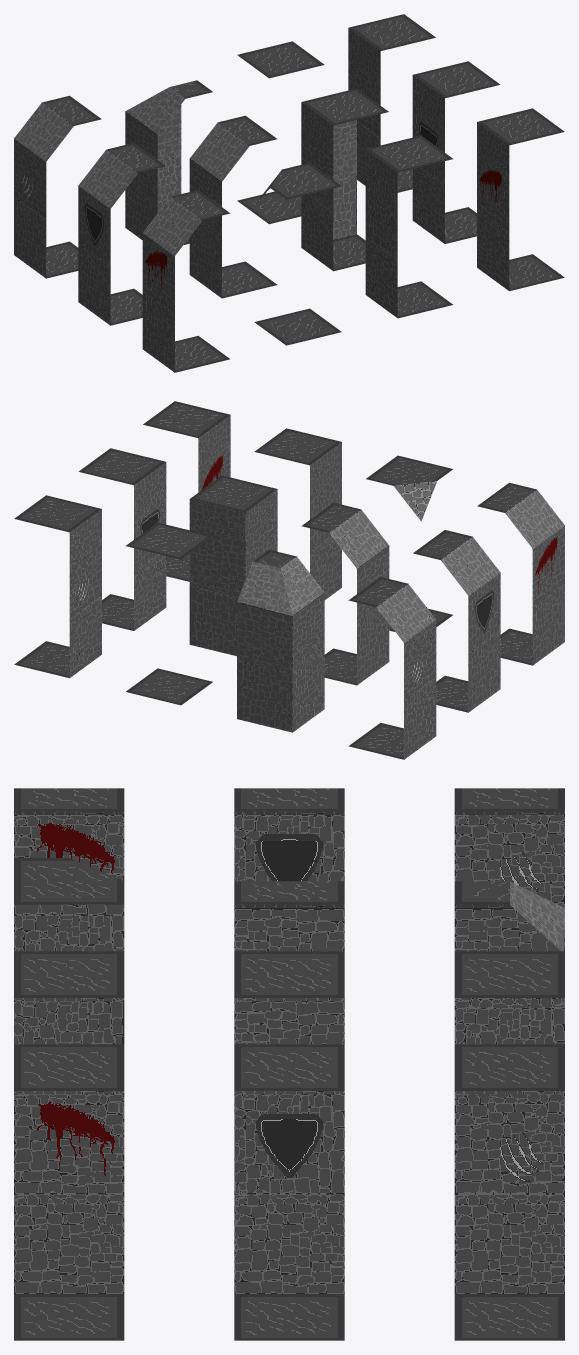
File: map-tiles.glb
3 renders of one model, top to bottom at view 1: azimuth 30°, elevation 25°; view 2: azimuth 150°, elevation 25°; view 3: azimuth 270°, elevation 25°, orthographic. The views are drawn at different scales.
Visible parts, largest first — view 1: wall-corner-col, wall-col, wall-blood-col, wall-blood-bevel-col, wall-markings-bevel-col, wall-shield-bevel-col, wall-bevel-col, wall-shield-col, wall-inner-corner-bevel-col, wall-markings-col, wall-outer-corner-col, wall-middle-col; view 2: wall-inner-corner-bevel-col, wall-corner-col, wall-markings-col, wall-markings-bevel-col, wall-blood-bevel-col, wall-shield-bevel-col, wall-shield-col, wall-bevel-col, wall-col, wall-blood-col, wall-middle-col, wall-outer-corner-col; view 3: wall-shield-col, wall-blood-col, wall-markings-col, wall-blood-bevel-col, wall-inner-corner-bevel-col, wall-markings-bevel-col, wall-corner-col, wall-shield-bevel-col, wall-col, wall-bevel-col, wall-middle-col, wall-outer-corner-col.
Boxes of the visible parts, x1,y1,x2,y2 form: wall-corner-col: (301,88,388,271); wall-col: (365,135,452,318); wall-blood-col: (477,108,564,291); wall-blood-bevel-col: (142,190,230,372); wall-markings-bevel-col: (14,95,101,278); wall-shield-bevel-col: (78,143,165,325); wall-bevel-col: (189,115,277,298); wall-shield-col: (412,61,500,243); wall-inner-corner-bevel-col: (125,80,212,244); wall-markings-col: (348,14,435,192); wall-outer-corner-col: (254,162,341,345); wall-middle-col: (237,41,324,224); wall-inner-corner-bevel-col: (237,549,324,732); wall-corner-col: (189,475,277,656); wall-markings-col: (14,495,101,678); wall-markings-bevel-col: (348,577,436,759); wall-blood-bevel-col: (477,482,564,665); wall-shield-bevel-col: (413,530,500,712); wall-shield-col: (78,448,166,630); wall-bevel-col: (301,502,389,685); wall-col: (254,428,341,599); wall-blood-col: (143,401,230,581); wall-middle-col: (126,522,212,705); wall-outer-corner-col: (366,455,452,631); wall-shield-col: (234,1044,344,1340); wall-blood-col: (14,1044,124,1340); wall-markings-col: (454,1044,564,1340); wall-blood-bevel-col: (14,788,124,951); wall-inner-corner-bevel-col: (454,881,564,1044); wall-markings-bevel-col: (454,788,564,907); wall-corner-col: (234,951,344,1044); wall-shield-bevel-col: (234,788,344,881); wall-col: (14,951,124,1044); wall-bevel-col: (234,881,344,951); wall-middle-col: (454,951,564,997); wall-outer-corner-col: (14,858,124,907).
Size of the model in its own units: 14 by 5 by 10.
Materials: 2 (2 with a texture image).
